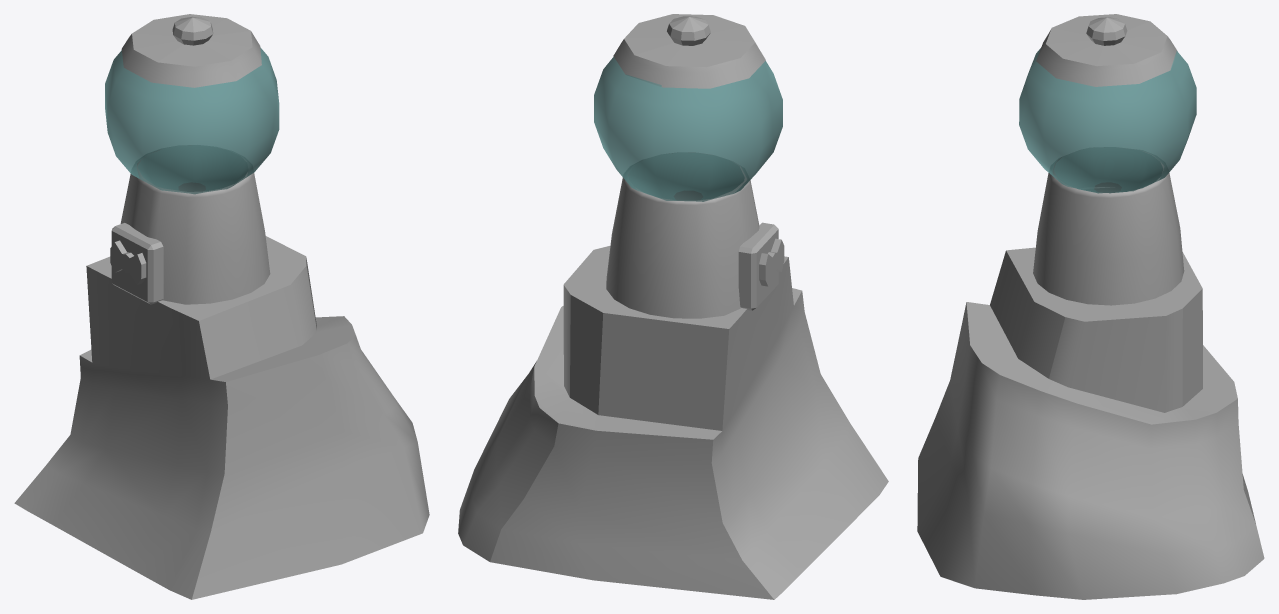
The model's file is CanionTeste.fbx.
3 renders of one model, left to right at view 1: azimuth 30°, elevation 25°; view 2: azimuth 150°, elevation 25°; view 3: azimuth 270°, elevation 25°, orthographic. The views are drawn at different scales.
Parts seen in each view (by area): view 1: polySurface2, polySurface6, polySurface1; view 2: polySurface2, polySurface6, polySurface1; view 3: polySurface2.
Boxes of the visible parts, left/top/right/bottom form: polySurface2: left=14, top=14, right=429, bottom=599; polySurface6: left=111, top=223, right=163, bottom=304; polySurface1: left=110, top=240, right=146, bottom=284; polySurface2: left=458, top=14, right=888, bottom=599; polySurface6: left=738, top=222, right=778, bottom=310; polySurface1: left=759, top=238, right=784, bottom=286; polySurface2: left=917, top=14, right=1264, bottom=599.
Bounding box in the file's own units: 30.08 × 43.46 × 28.02.
